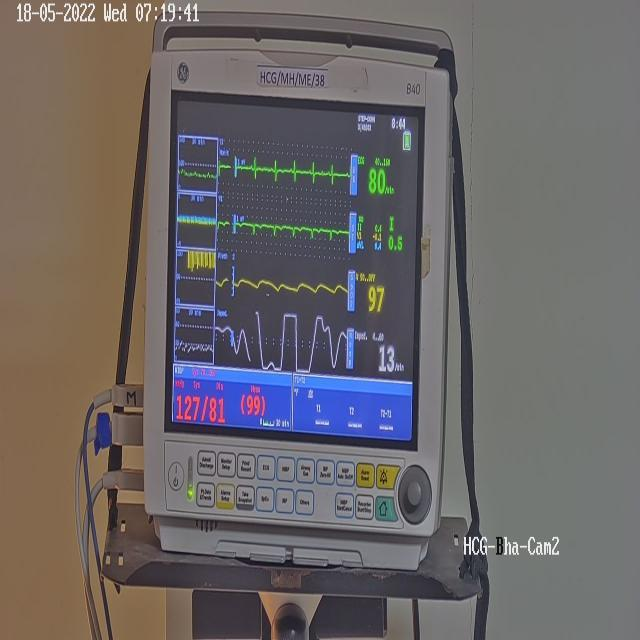Monitor: (106, 25, 482, 616)
